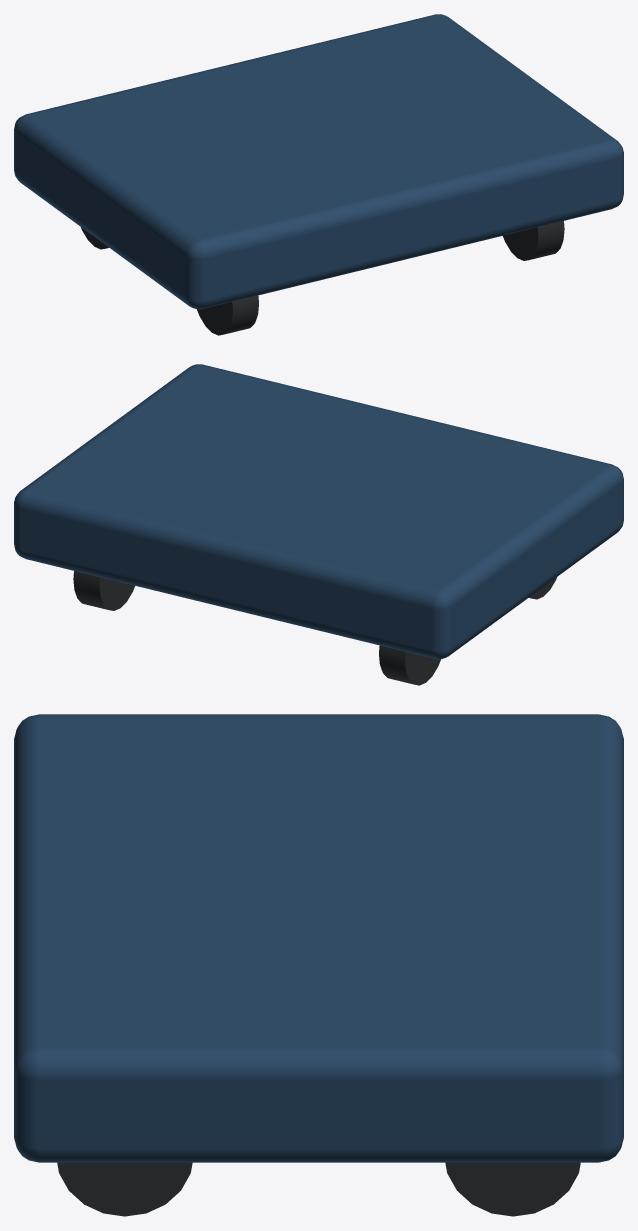
The model's file is rowing-boathouse-and-regatta-course-sliding-seat-97b9023e__32136.glb.
3 views of the same model, one above another, from view 1: azimuth 30°, elevation 25°; view 2: azimuth 150°, elevation 25°; view 3: azimuth 270°, elevation 25° (orthographic). The views are drawn at different scales.
Visible parts, largest first — view 1: sliding-seat; view 2: sliding-seat; view 3: sliding-seat.
Boxes of the visible parts, left/top/right/bottom form: sliding-seat: left=14, top=14, right=623, bottom=335; sliding-seat: left=14, top=364, right=623, bottom=685; sliding-seat: left=14, top=714, right=623, bottom=1216.
Size of the model in its own units: 0.3 by 0.08 by 0.22.
